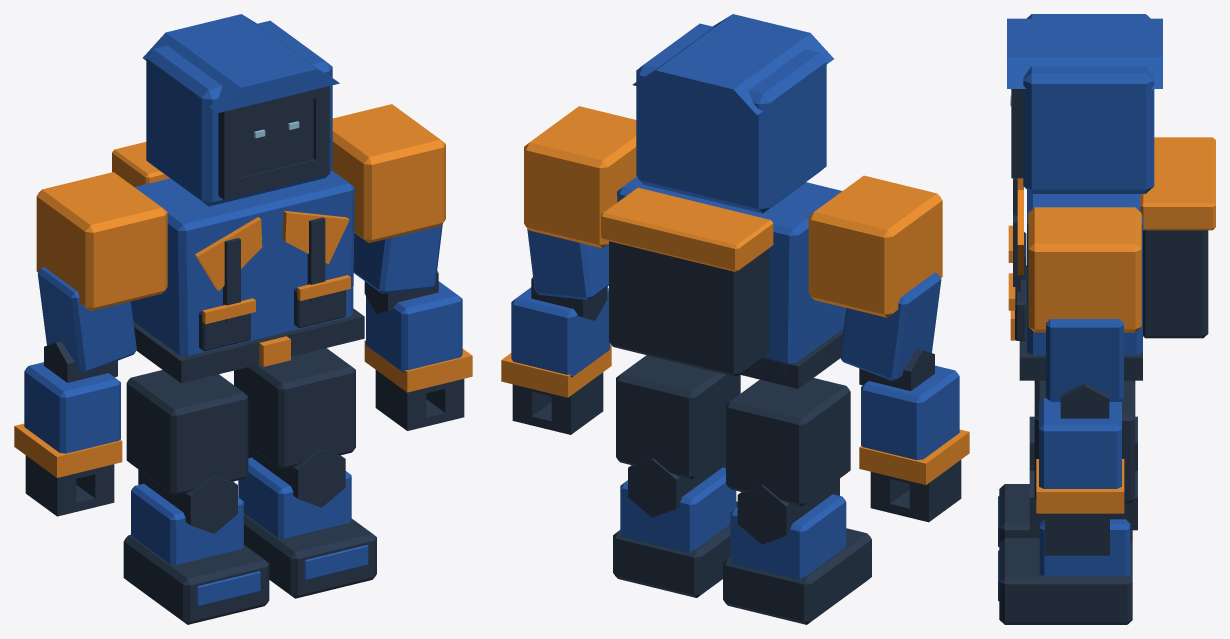
3 views of the same model, side by side, from view 1: azimuth 30°, elevation 25°; view 2: azimuth 150°, elevation 25°; view 3: azimuth 270°, elevation 25° (orthographic). The views are drawn at different scales.
Visible parts, largest first — view 1: Jaqueta, Ombro, Coxa.001, Ombro.001, Coxa, Cabeça encapuzada, Viseira do capuz, Bota.001, Antebraço.001, Antebraço, Braço.001, Bota (+26 smaller); view 2: Cabeça encapuzada, Mochila de exploração, Ombro, Coxa.001, Ombro.001, Coxa, Jaqueta, Viseira do capuz, Tampa da mochila, Bota.001, Antebraço.001, Braço.001 (+14 smaller); view 3: Cabeça encapuzada, Ombro.001, Viseira do capuz, Bota, Mochila de exploração, Antebraço, Tampa da mochila, Braço, Jaqueta, Canela, Mão de avatar.001, Punho.001 (+10 smaller).
Part boxes in pixels (bbox=[...]): Jaqueta: bbox=[130, 170, 354, 355]; Ombro: bbox=[36, 172, 167, 311]; Coxa.001: bbox=[126, 370, 248, 495]; Ombro.001: bbox=[332, 104, 445, 243]; Coxa: bbox=[234, 348, 355, 469]; Cabeça encapuzada: bbox=[146, 20, 332, 206]; Viseira do capuz: bbox=[143, 14, 339, 113]; Bota.001: bbox=[123, 534, 269, 624]; Antebraço.001: bbox=[24, 362, 120, 453]; Antebraço: bbox=[366, 281, 462, 372]; Braço.001: bbox=[37, 267, 136, 373]; Bota: bbox=[244, 513, 376, 598]; Cabeça encapuzada: bbox=[636, 23, 826, 213]; Mochila de exploração: bbox=[609, 241, 768, 376]; Ombro: bbox=[808, 175, 942, 317]; Coxa.001: bbox=[726, 378, 850, 506]; Ombro.001: bbox=[524, 106, 636, 248]; Coxa: bbox=[616, 355, 740, 479]; Jaqueta: bbox=[617, 177, 846, 372]; Viseira do capuz: bbox=[632, 14, 833, 115]; Tampa da mochila: bbox=[601, 187, 773, 271]; Bota.001: bbox=[723, 528, 871, 624]; Antebraço.001: bbox=[861, 365, 959, 460]; Braço.001: bbox=[840, 272, 941, 381]; Cabeça encapuzada: bbox=[1023, 14, 1154, 193]; Ombro.001: bbox=[1028, 207, 1141, 332]; Viseira do capuz: bbox=[1007, 18, 1162, 88]; Bota: bbox=[999, 538, 1132, 624]; Mochila de exploração: bbox=[1143, 230, 1208, 338]; Antebraço: bbox=[1039, 398, 1121, 488]; Tampa da mochila: bbox=[1140, 137, 1215, 230]; Braço: bbox=[1046, 319, 1123, 401]; Jaqueta: bbox=[1027, 190, 1142, 355]; Canela: bbox=[1039, 519, 1130, 576]; Mão de avatar.001: bbox=[1044, 513, 1109, 555]; Punho.001: bbox=[1036, 459, 1124, 513].
Bounding box in the file's own units: 1.97 × 2.37 × 0.865.
